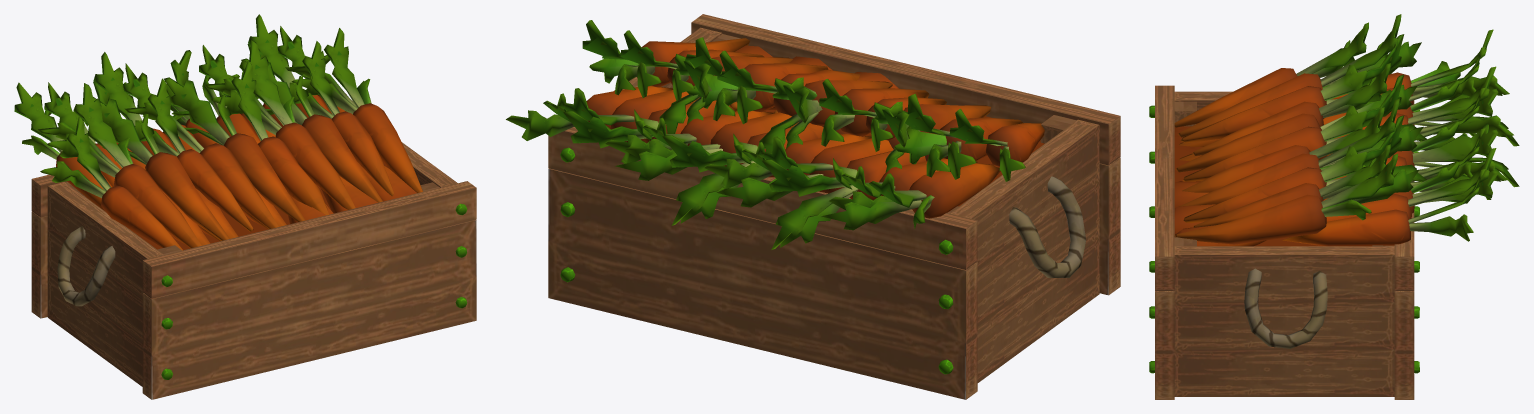
File: FarmCrate_Carrot.gltf
3 views of the same model, side by side, from view 1: azimuth 30°, elevation 25°; view 2: azimuth 150°, elevation 25°; view 3: azimuth 270°, elevation 25° (orthographic). The views are drawn at different scales.
Parts seen in each view (by area): view 1: FarmCrate_Carrot; view 2: FarmCrate_Carrot; view 3: FarmCrate_Carrot.
Boxes of the visible parts, <box> form: FarmCrate_Carrot: <box>14,14,476,399</box>; FarmCrate_Carrot: <box>506,14,1120,399</box>; FarmCrate_Carrot: <box>1149,14,1519,399</box>.
Bounding box in the file's own units: 0.7138 × 0.4113 × 0.567.
Materials: 3 (3 with a texture image).
